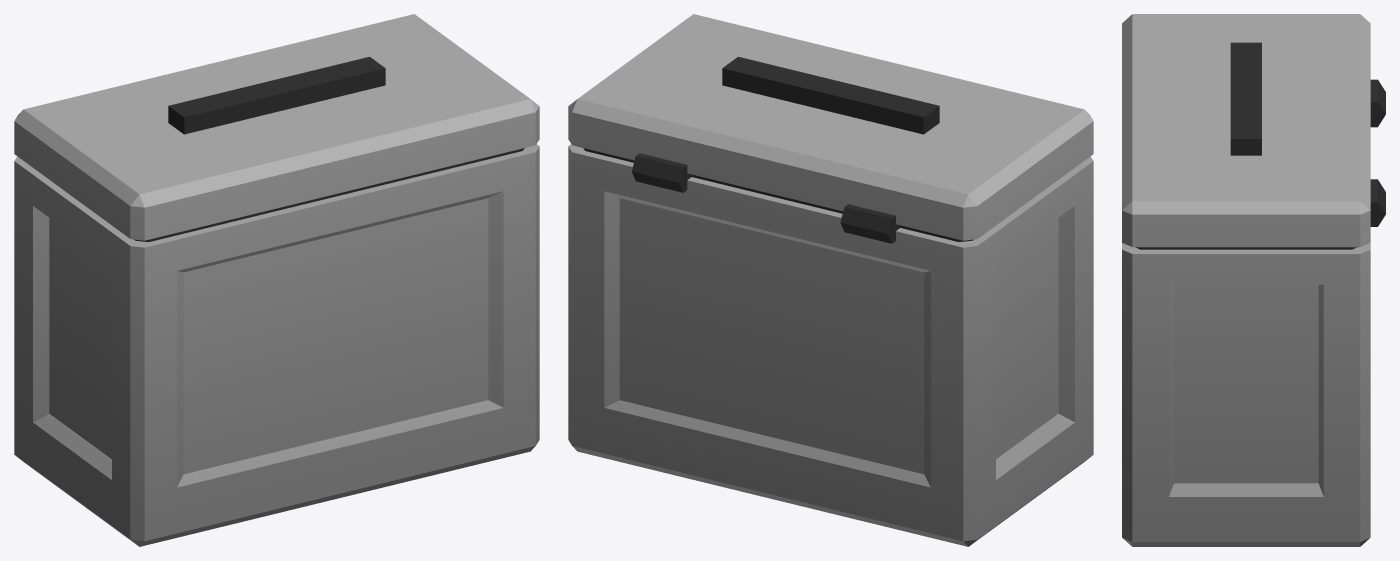
File: AmoBox_06.fbx
3 renders of one model, left to right at view 1: azimuth 30°, elevation 25°; view 2: azimuth 150°, elevation 25°; view 3: azimuth 270°, elevation 25°, orthographic.
Visible parts, largest first — view 1: AmoBox_06; view 2: AmoBox_06; view 3: AmoBox_06.
Boxes of the visible parts, box(x1,y1,x2,y2) form: AmoBox_06: box(14, 14, 539, 546); AmoBox_06: box(568, 14, 1093, 546); AmoBox_06: box(1122, 14, 1385, 546).
Size of the model in its own units: 0.3506 by 0.3027 by 0.1995.
